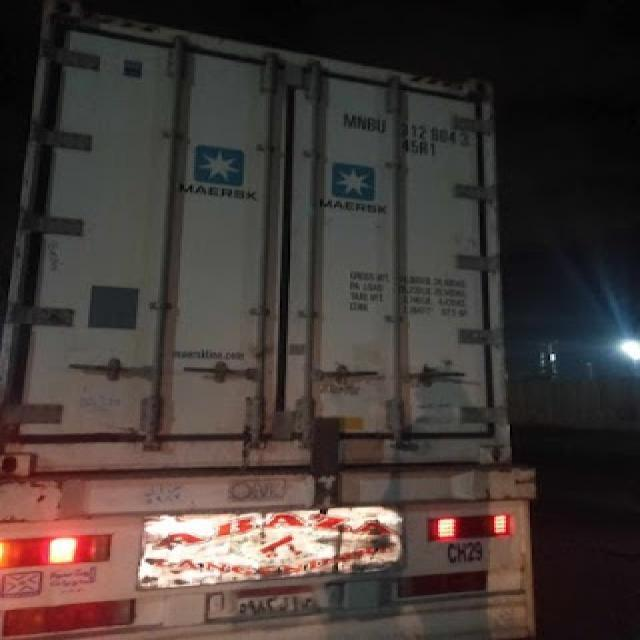ISO: (397, 142, 445, 159)
container_number: (339, 102, 475, 151)
